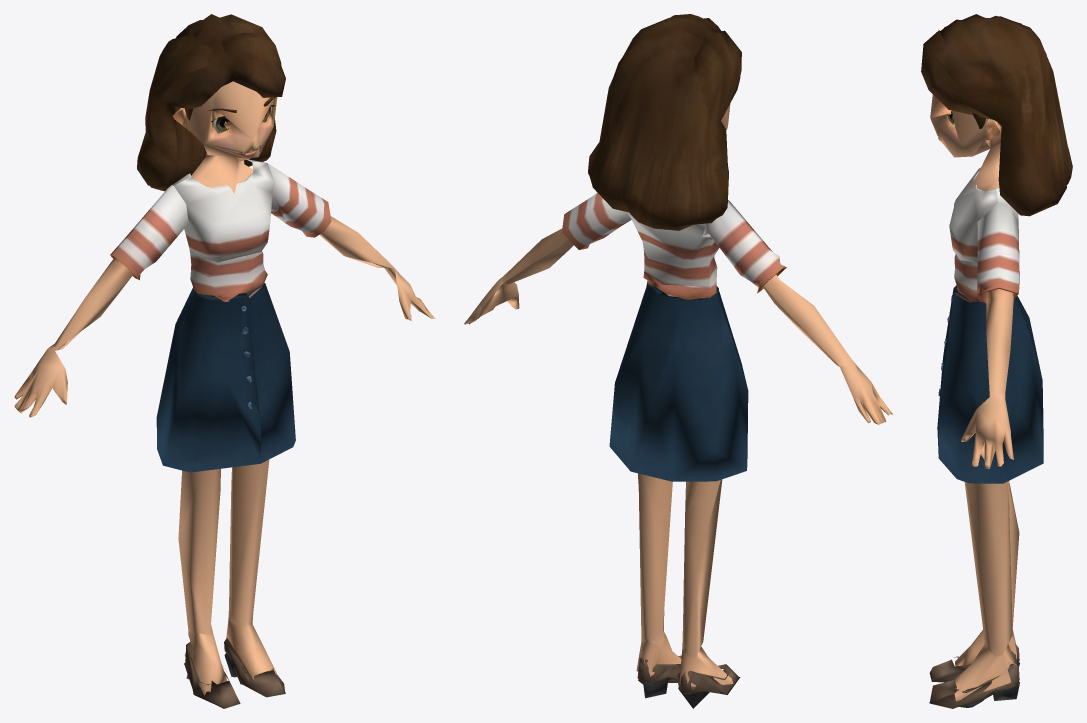
Rendered from Mother.glb.
3 renders of one model, left to right at view 1: azimuth 30°, elevation 25°; view 2: azimuth 150°, elevation 25°; view 3: azimuth 270°, elevation 25°, orthographic.
Visible parts, largest first — view 1: Obj3d66-12936900-15-408, Obj3d66-12936900-10-420, Obj3d66-12936900-6-321, Obj3d66-12936900-7-647; view 2: Obj3d66-12936900-15-408, Obj3d66-12936900-6-321, Obj3d66-12936900-10-420, Obj3d66-12936900-7-647; view 3: Obj3d66-12936900-15-408, Obj3d66-12936900-6-321, Obj3d66-12936900-10-420, Obj3d66-12936900-7-647.
Boxes of the visible parts, x1=… form: Obj3d66-12936900-15-408: x1=110, y1=159, x2=331, y2=472; Obj3d66-12936900-10-420: x1=14, y1=81, x2=435, y2=695; Obj3d66-12936900-6-321: x1=137, y1=14, x2=285, y2=191; Obj3d66-12936900-7-647: x1=184, y1=306, x2=285, y2=708; Obj3d66-12936900-15-408: x1=562, y1=193, x2=786, y2=481; Obj3d66-12936900-6-321: x1=588, y1=14, x2=741, y2=230; Obj3d66-12936900-10-420: x1=464, y1=104, x2=892, y2=690; Obj3d66-12936900-7-647: x1=637, y1=655, x2=740, y2=708; Obj3d66-12936900-15-408: x1=937, y1=167, x2=1043, y2=483; Obj3d66-12936900-6-321: x1=921, y1=14, x2=1072, y2=216; Obj3d66-12936900-10-420: x1=930, y1=94, x2=1019, y2=701; Obj3d66-12936900-7-647: x1=929, y1=295, x2=1019, y2=708.
Bounding box in the file's own units: 0.508 × 0.785 × 0.1609.
Materials: 6 (5 with a texture image).
